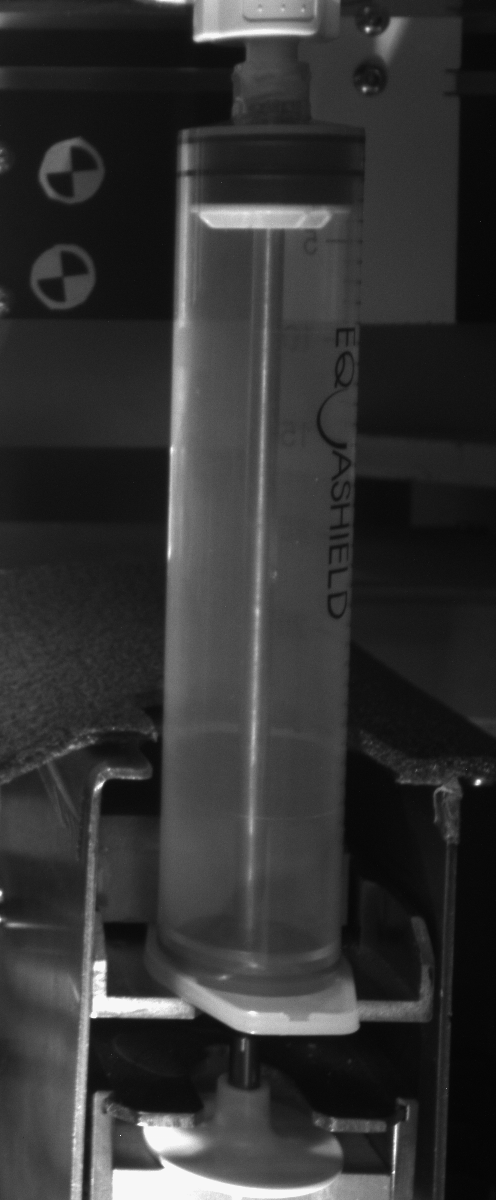piston: (175, 144, 369, 233)
